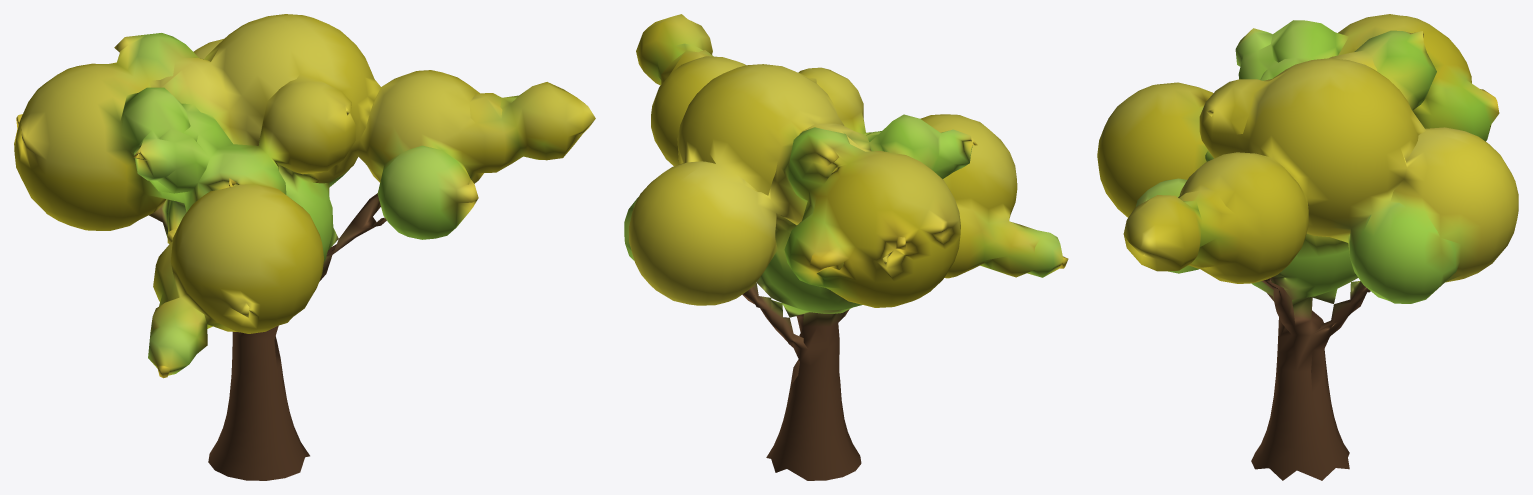
The model's file is orchard-tree-113-lod1.obj.
3 views of the same model, side by side, from view 1: azimuth 30°, elevation 25°; view 2: azimuth 150°, elevation 25°; view 3: azimuth 270°, elevation 25° (orthographic). The views are drawn at different scales.
Parts seen in each view (by area): view 1: simplified; view 2: simplified; view 3: simplified.
Part boxes in pixels (x1=…): simplified: x1=14, y1=14, x2=595, y2=480; simplified: x1=624, y1=14, x2=1068, y2=480; simplified: x1=1097, y1=14, x2=1518, y2=480.
Size of the model in its own units: 322 by 288 by 265.
